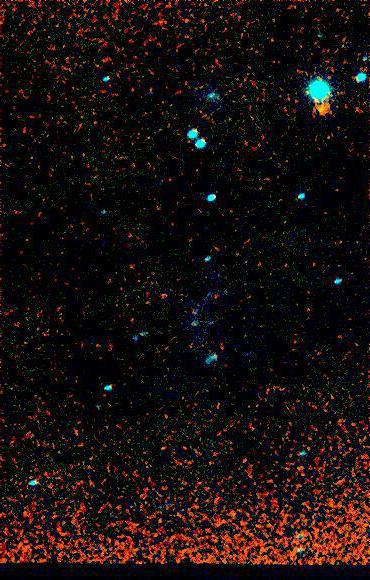star: (308, 95, 338, 125)
